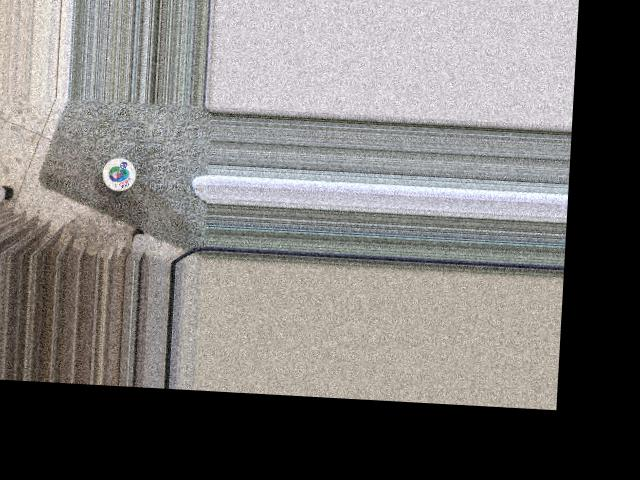cotage: (100, 156, 135, 192)
